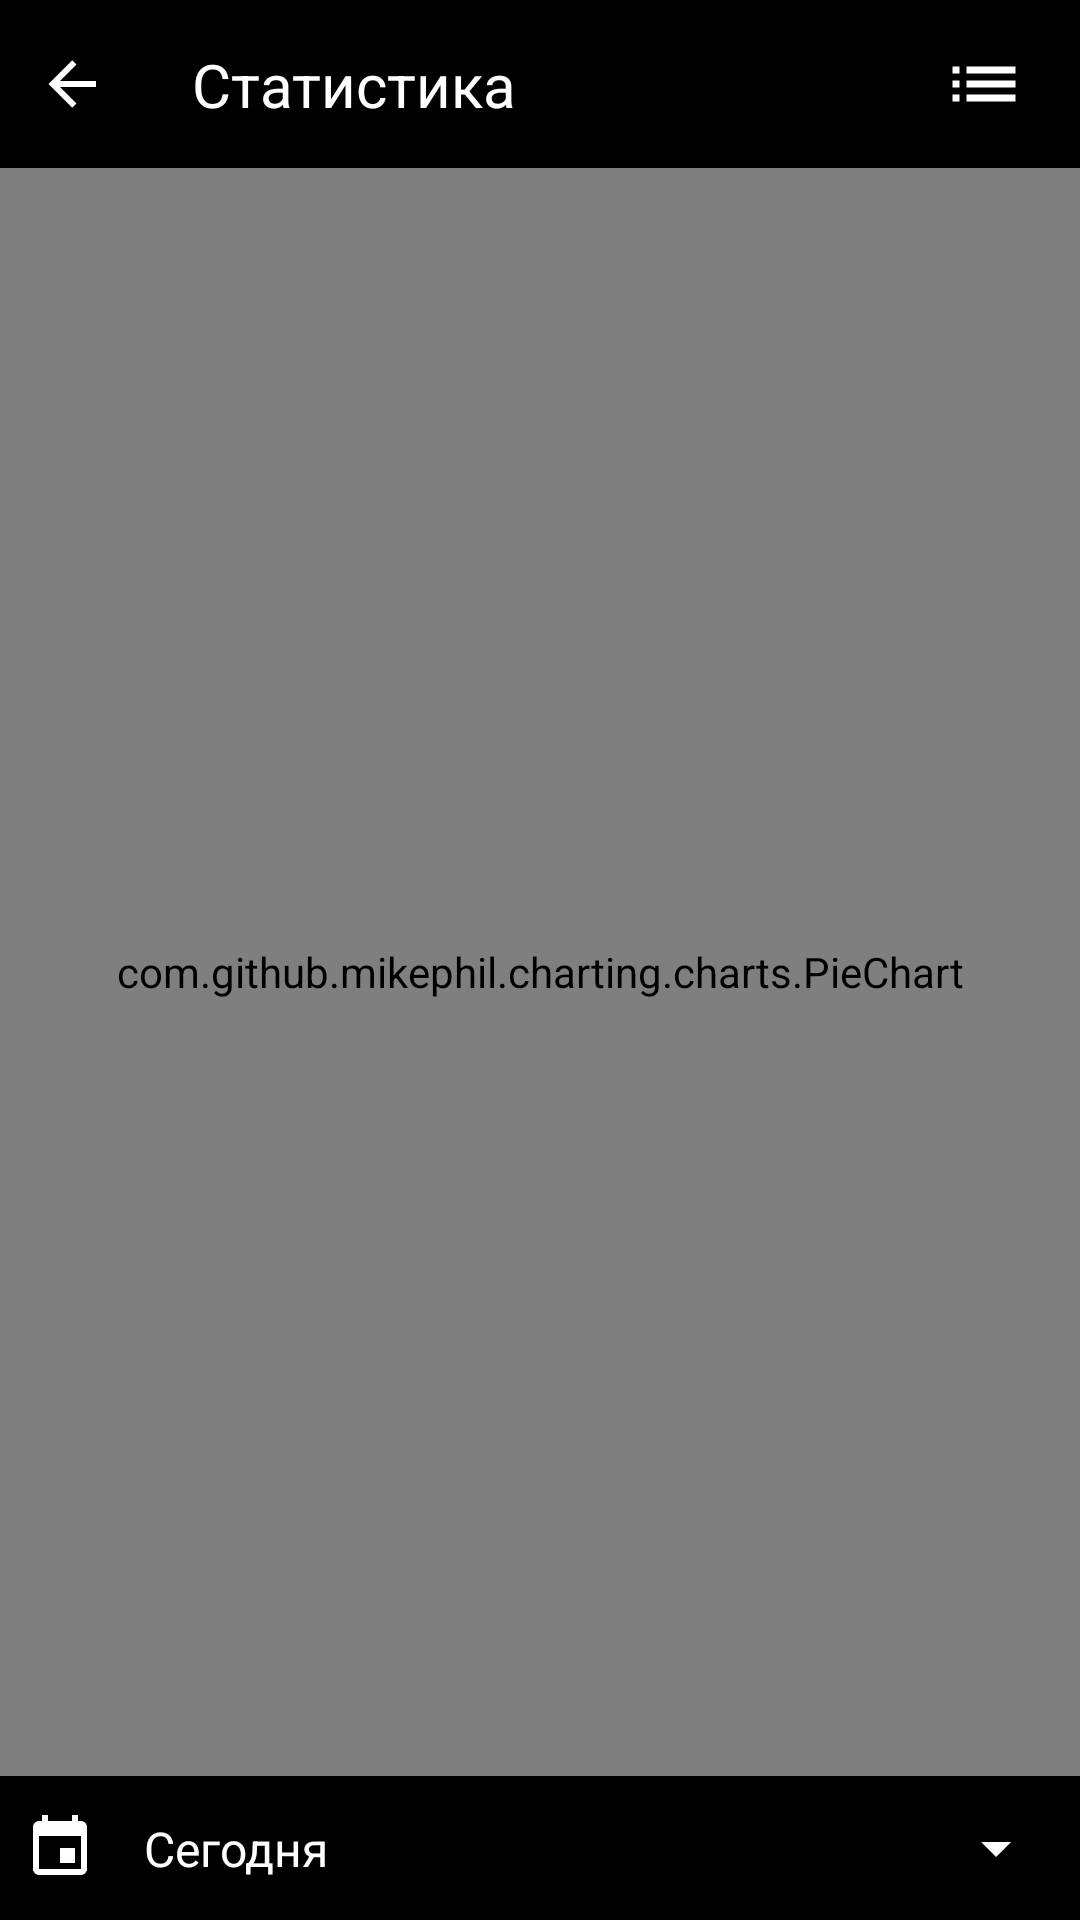

Where icons sit on this 1080 × 1920 app screen, as detection(x1, y1, x2, y2):
back: detection(48, 60, 96, 108)
calendar: detection(33, 1815, 87, 1875)
down: detection(981, 1842, 1011, 1857)
list: detection(952, 66, 1016, 102)
